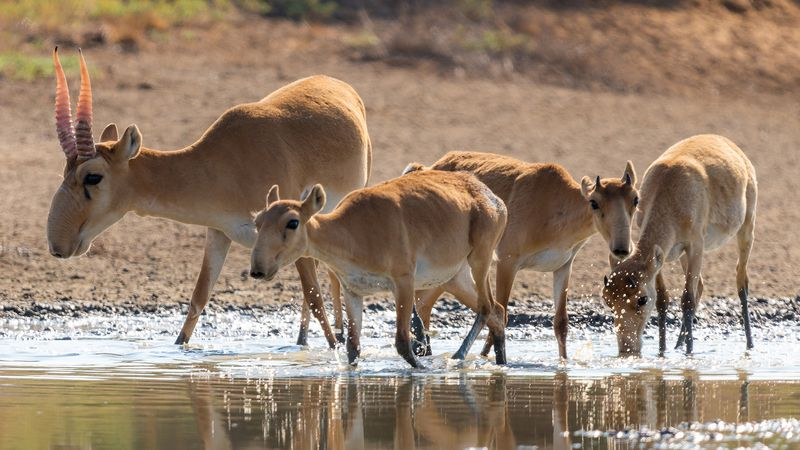saiga: (43, 35, 380, 354), (409, 148, 635, 369), (252, 190, 509, 366)
